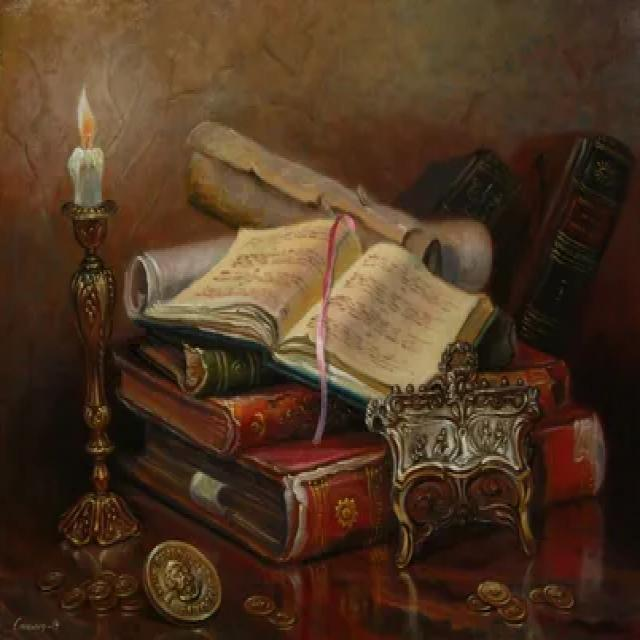book: (143, 209, 500, 424)
